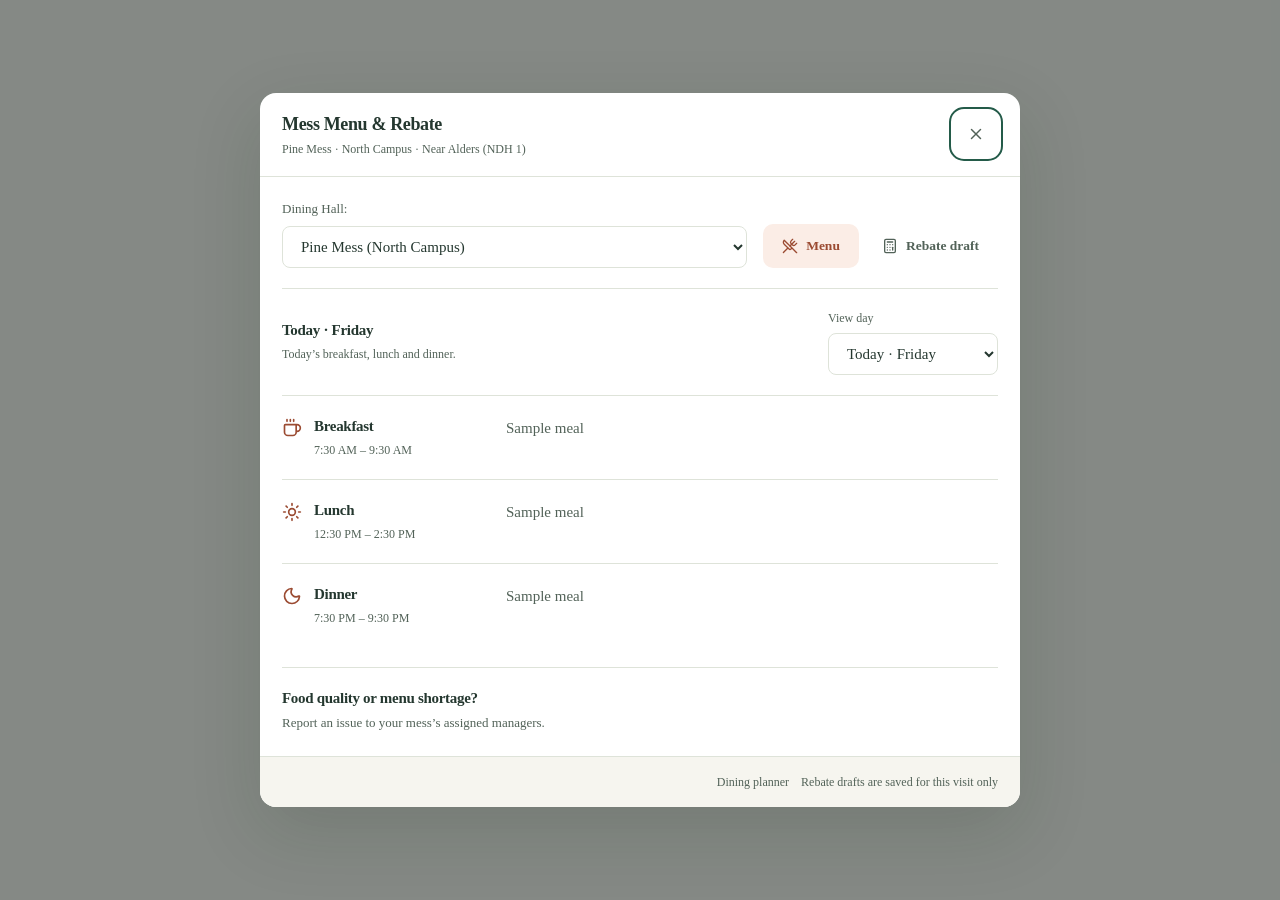
Scenario: the dining modal keeps rebate drafts local and updates the duration from date inputs
Click the button "Rebate draft" at (930, 246), box [863, 224, 998, 268]
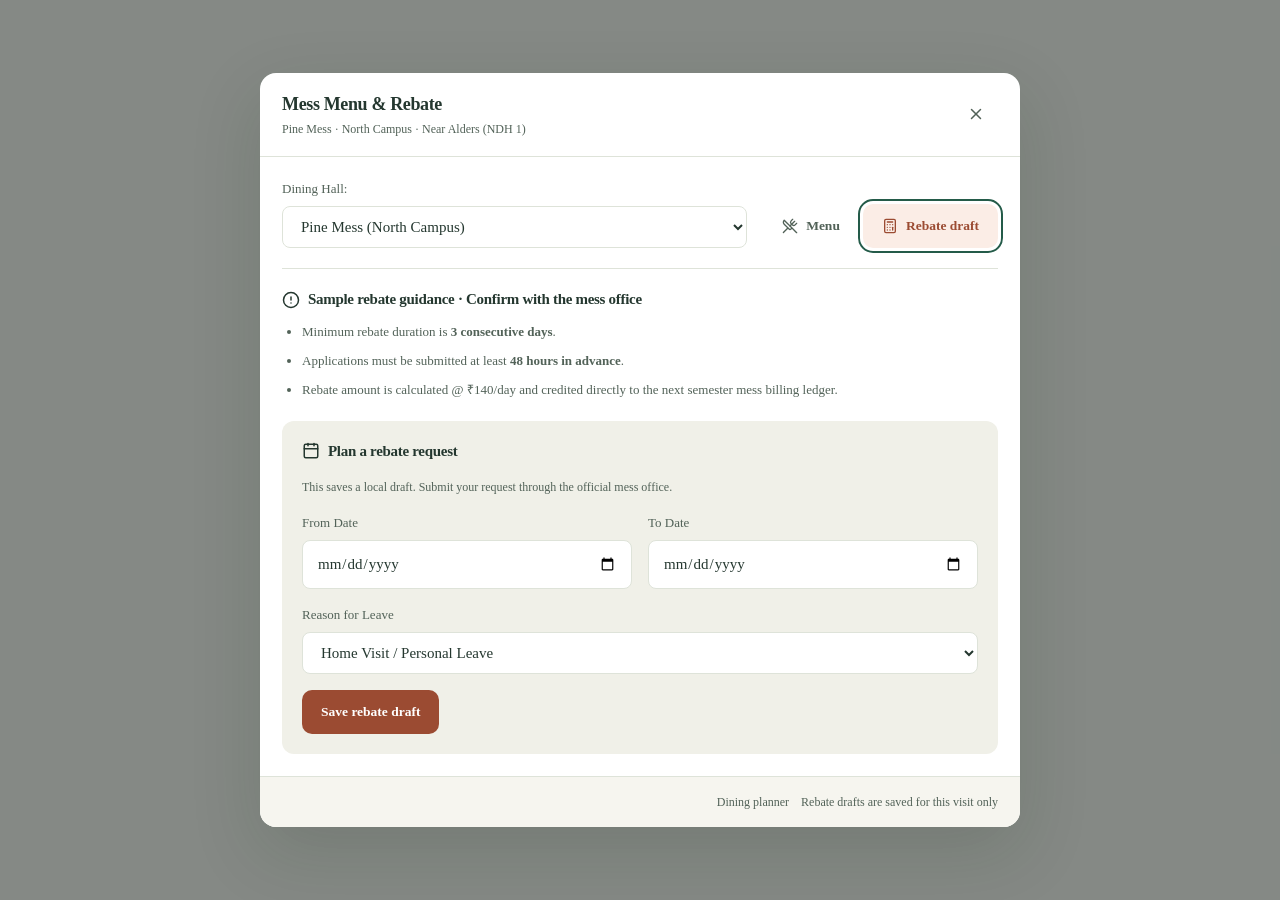
Type "2026-10-12" into the date field labelled "From Date" at (467, 565), box [302, 540, 632, 589]
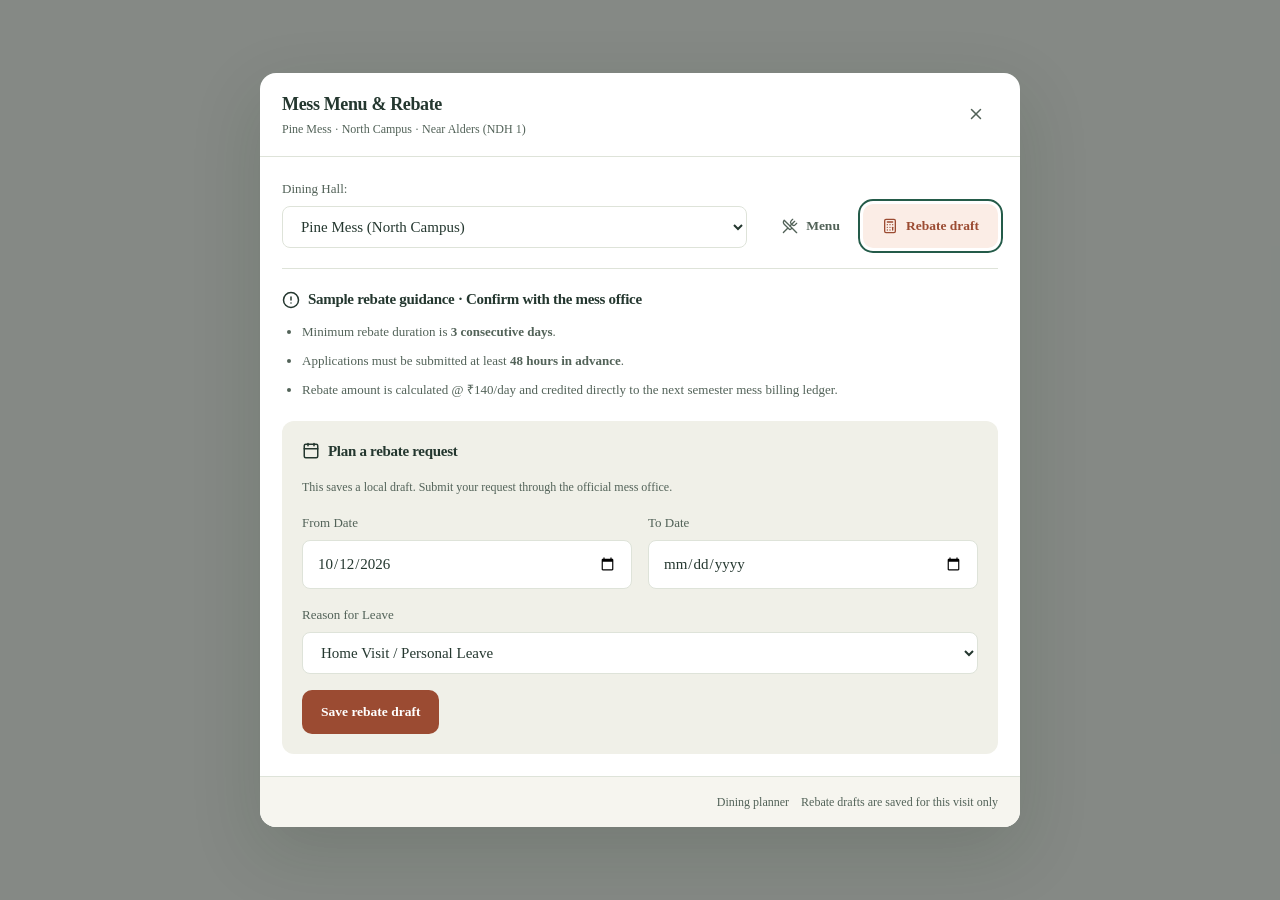
Type "2026-10-15" into the date field labelled "To Date" at (813, 565), box [648, 540, 978, 589]
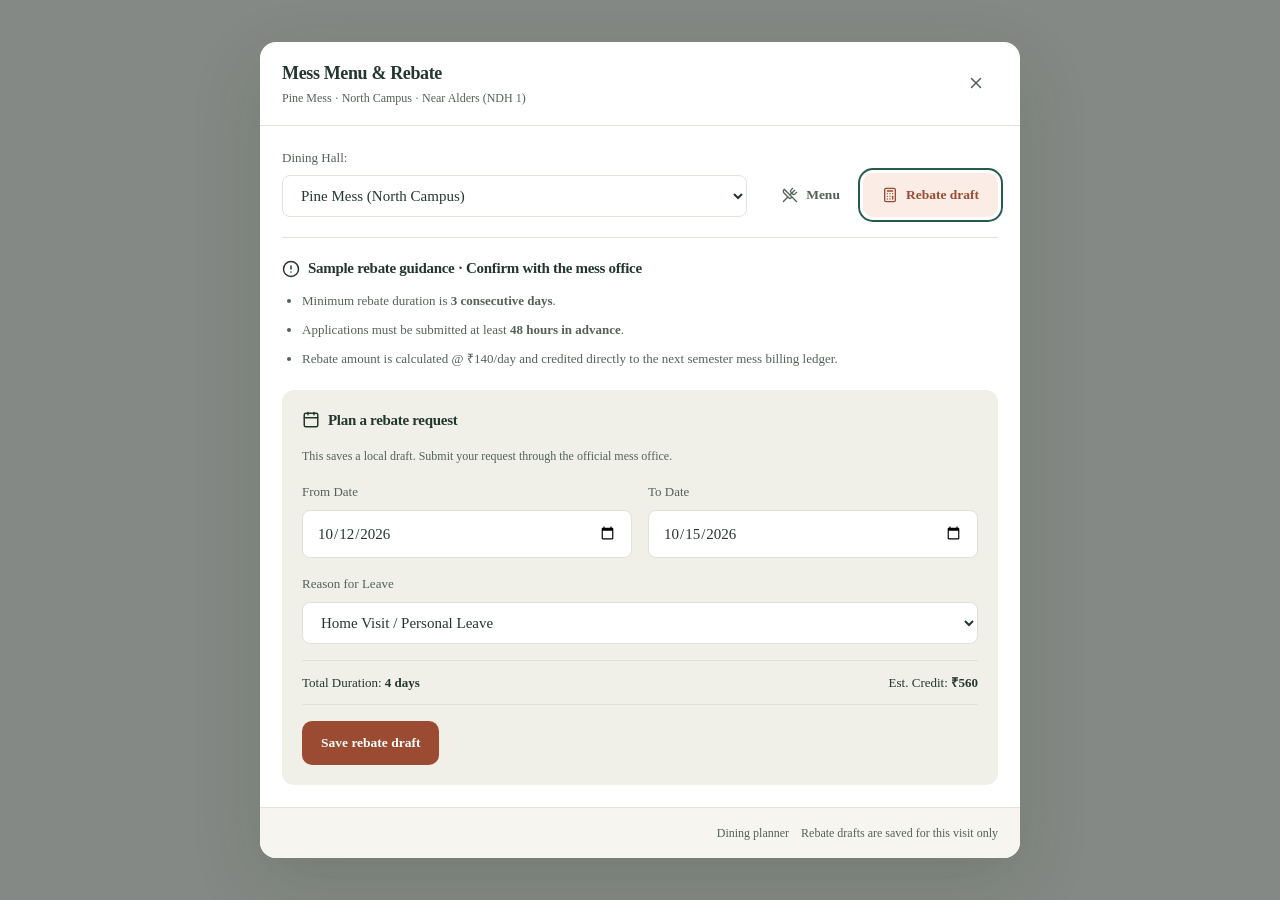
Check: the text "4 days" is shown, box [385, 674, 420, 690]
Click the button "Save rebate draft" at (371, 743), box [302, 721, 440, 765]
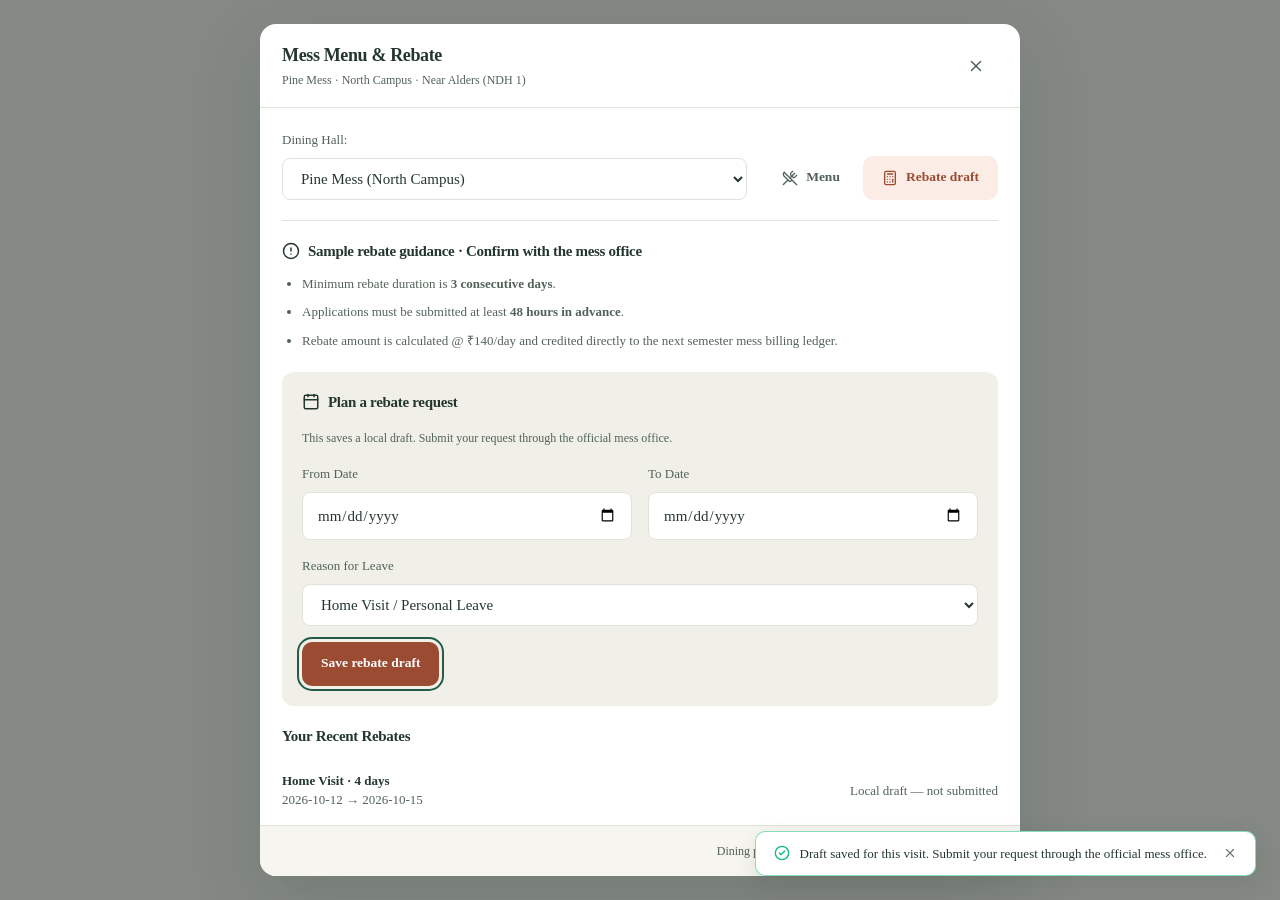
Check: the text "Local draft — not submitted" is shown, box [850, 781, 998, 800]
Check: the text "2026-10-12 → 2026-10-15" is shown, box [282, 790, 423, 811]
Check: the date field labelled "From Date" is empty, box [302, 492, 632, 540]
